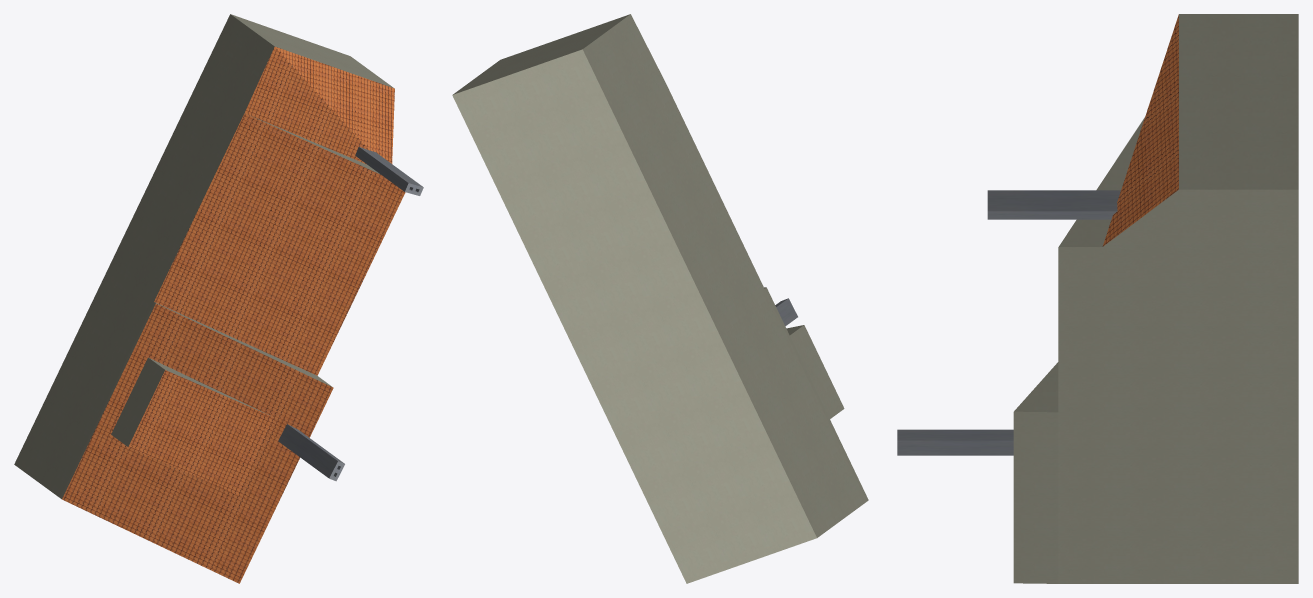
The model's file is Viru18.obj.
The picture shows the model from 3 angles, left to right: view 1: azimuth 30°, elevation 25°; view 2: azimuth 150°, elevation 25°; view 3: azimuth 270°, elevation 25°; orthographic projection. The views are drawn at different scales.
Parts seen in each view (by area): view 1: V18_Building; view 2: V18_Building; view 3: V18_Building.
Boxes of the visible parts, x1=… form: V18_Building: x1=14, y1=14, x2=423, y2=583; V18_Building: x1=452, y1=14, x2=868, y2=583; V18_Building: x1=897, y1=14, x2=1298, y2=583.
Bounding box in the file's own units: 18.75 × 25.01 × 14.37.
